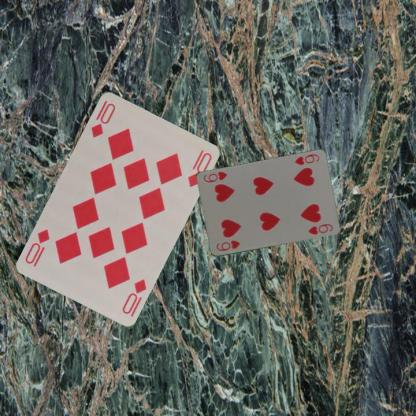10d: (119, 275, 148, 316), (88, 100, 117, 139)
6h: (213, 238, 242, 253), (292, 152, 321, 166)
